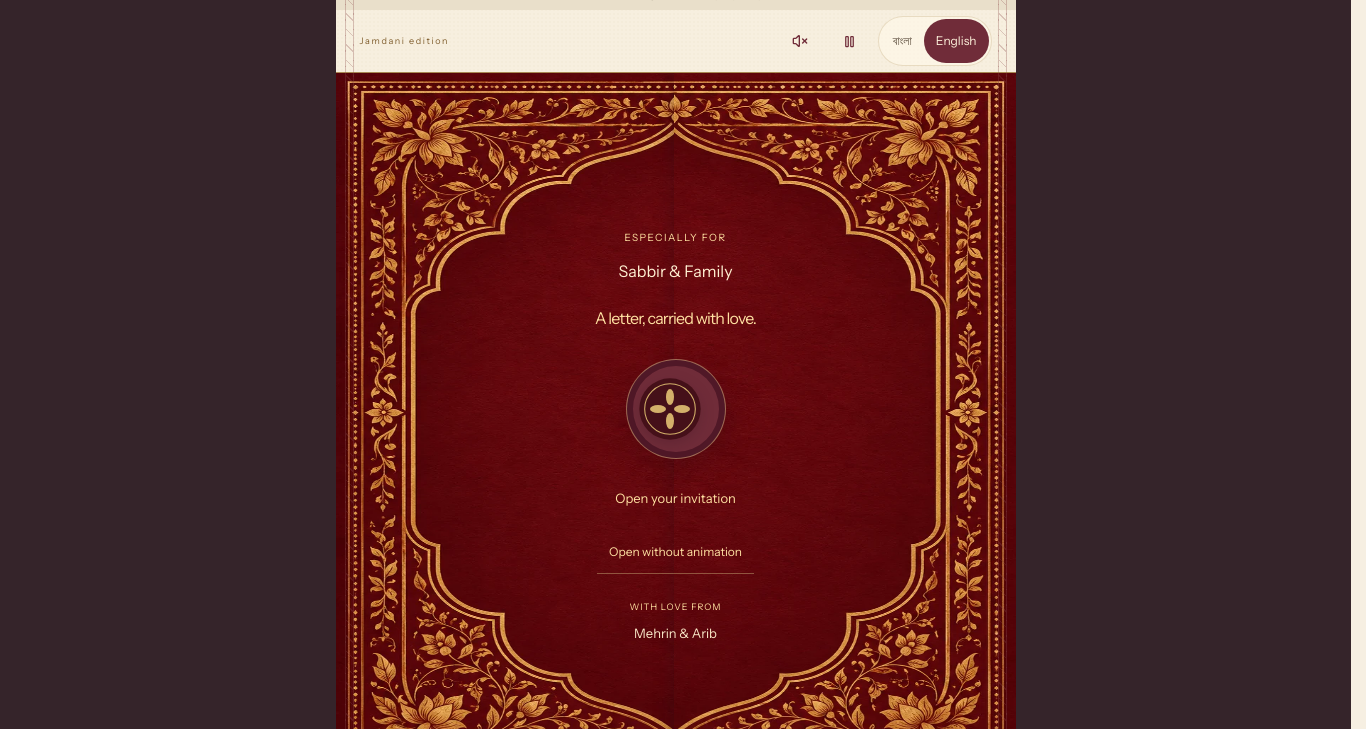
Test case: personal invitation and explicit opening contract › signs the invitation with the couple and family and addresses wishes to the couple
Step 1. Click the button "Open without animation" → (676,552), box x1=597 y1=530 x2=754 y2=574
(page scrolled)
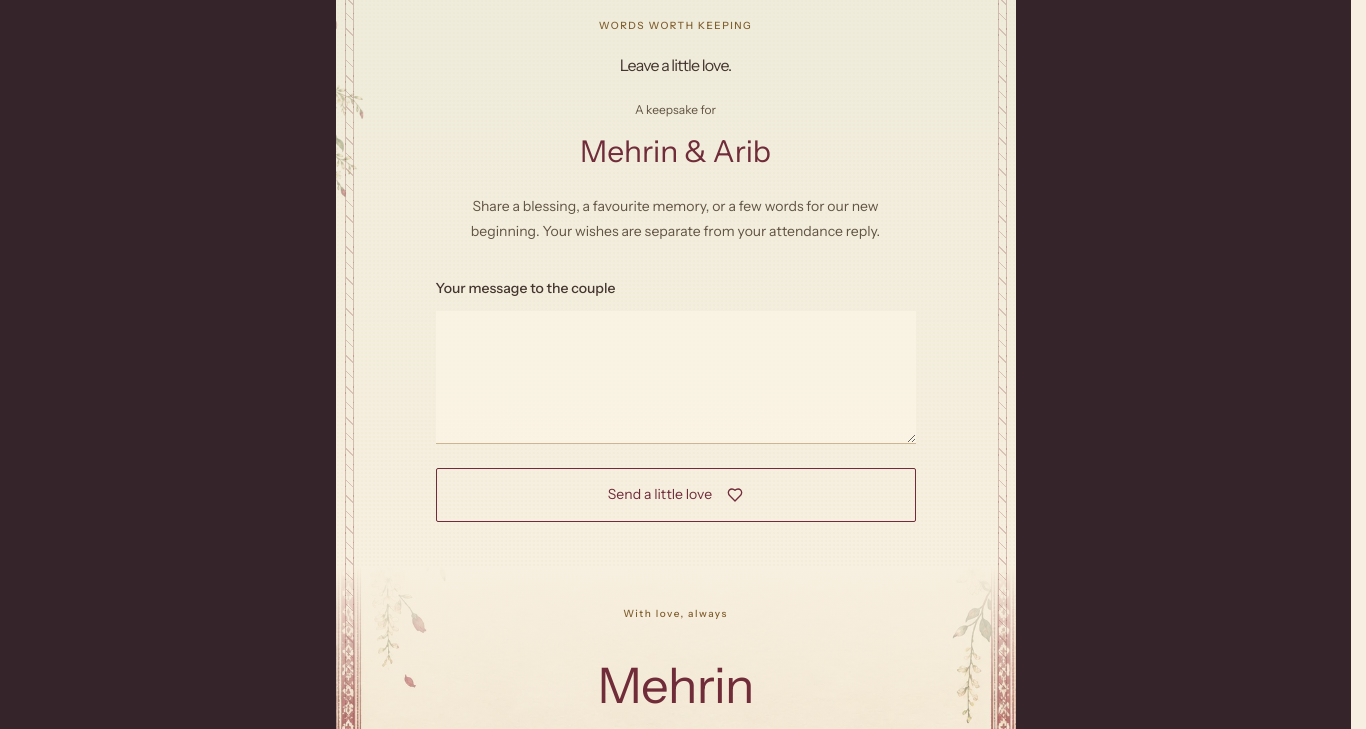
Expected: the footer shows "Mehrin", x1=597 y1=655 x2=754 y2=715
Expected: the element "Leave a little love." shows "Mehrin & Arib", x1=580 y1=133 x2=771 y2=170
Expected: the text box labelled "Your message to the couple" is shown, x1=436 y1=311 x2=916 y2=444
